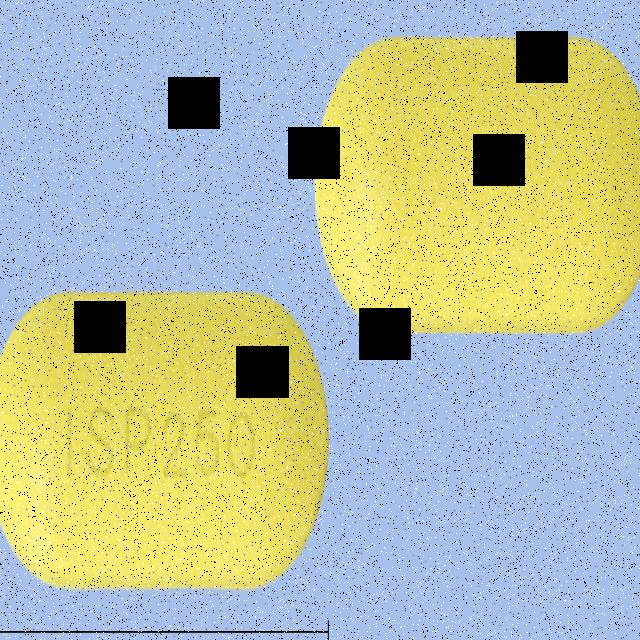Ilsung Clarithromycin - 500mg: (0, 288, 330, 586)
